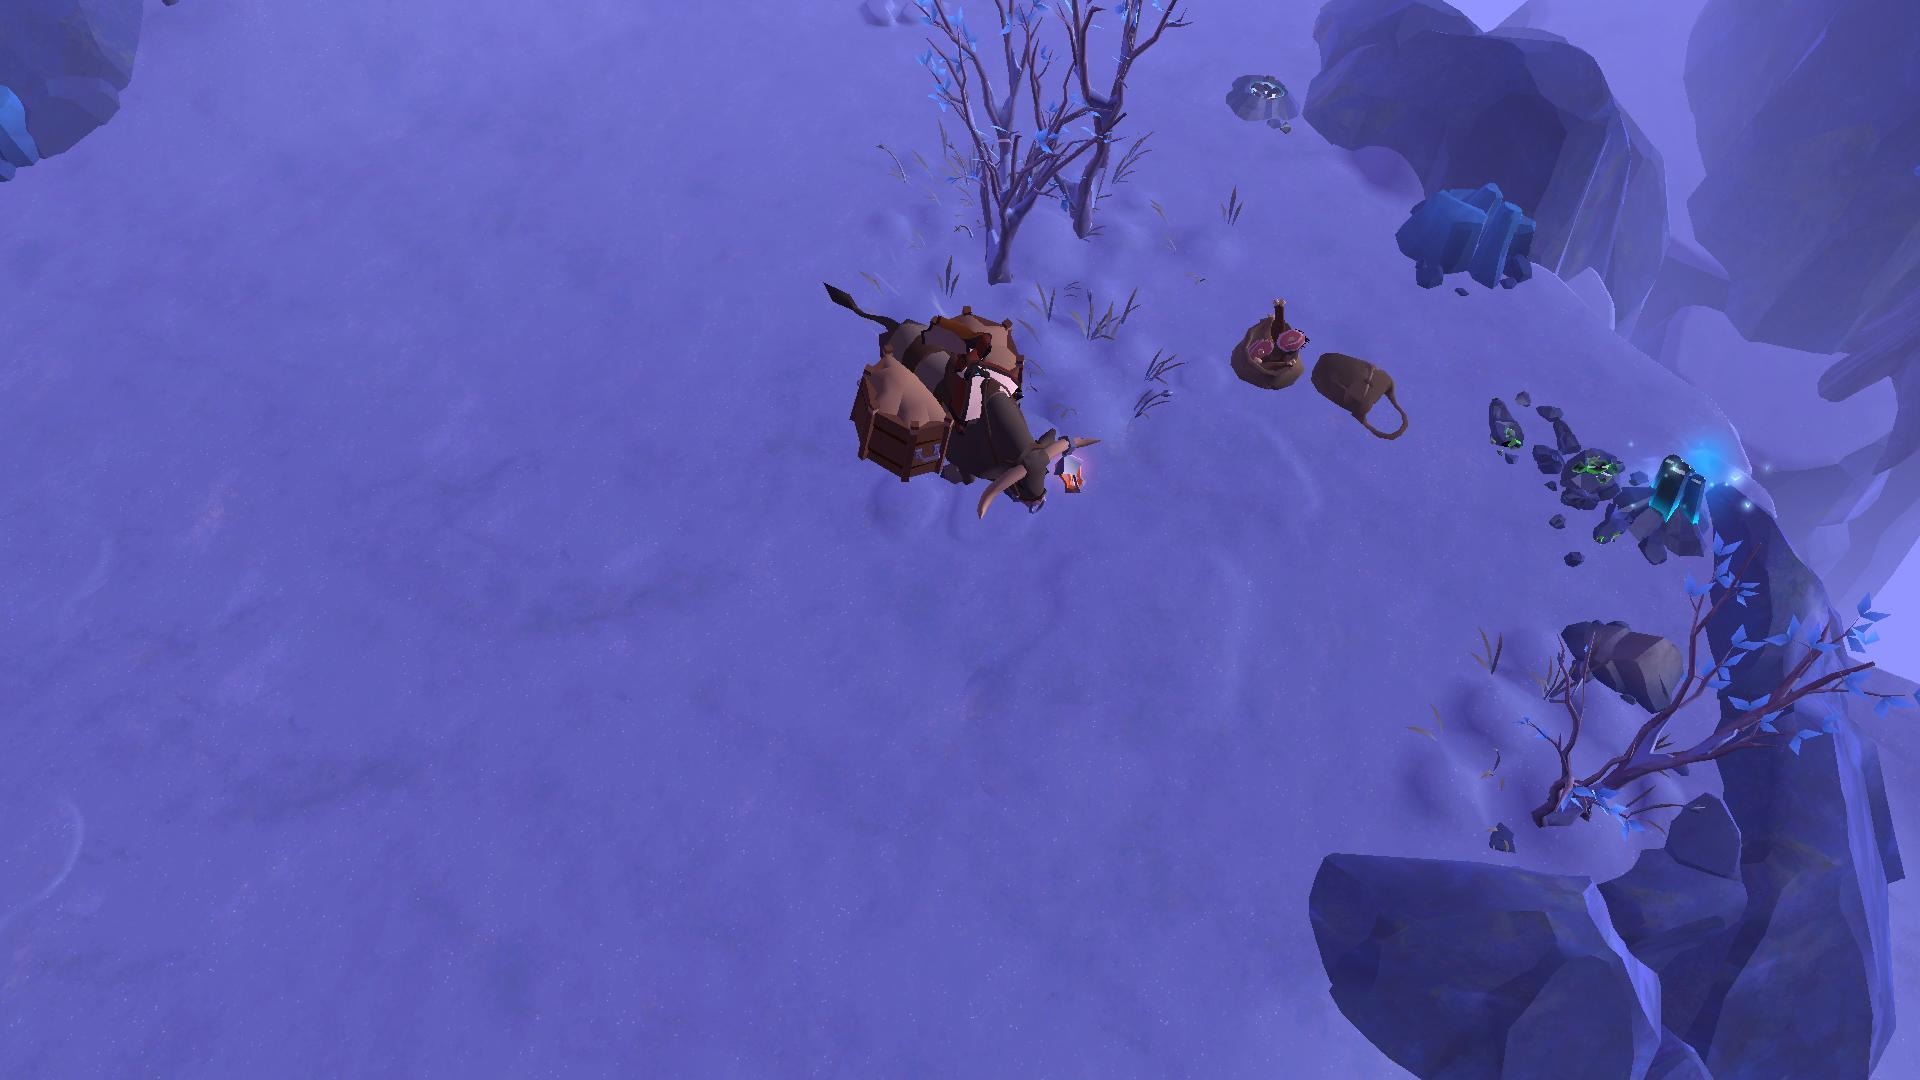ore_t4: (1652, 443, 1709, 526)
rock_t4: (1400, 171, 1544, 289)
